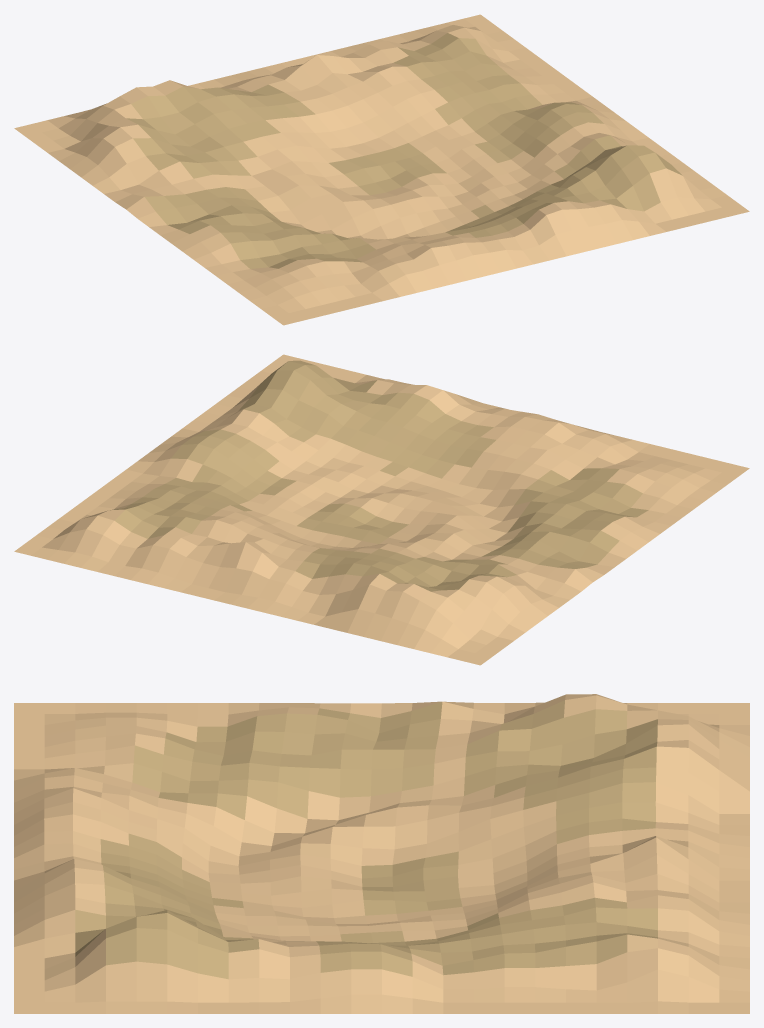
File: Large_Land_005.fbx
The picture shows the model from 3 angles, top to bottom: view 1: azimuth 30°, elevation 25°; view 2: azimuth 150°, elevation 25°; view 3: azimuth 270°, elevation 25°; orthographic projection. The views are drawn at different scales.
Parts seen in each view (by area): view 1: Large_Land.005; view 2: Large_Land.005; view 3: Large_Land.005.
Boxes of the visible parts, x1,y1,x2,y2 form: Large_Land.005: [14, 14, 749, 325]; Large_Land.005: [14, 354, 749, 665]; Large_Land.005: [14, 694, 749, 1013].
Bounding box in the file's own units: 16000 × 2048 × 16000.
